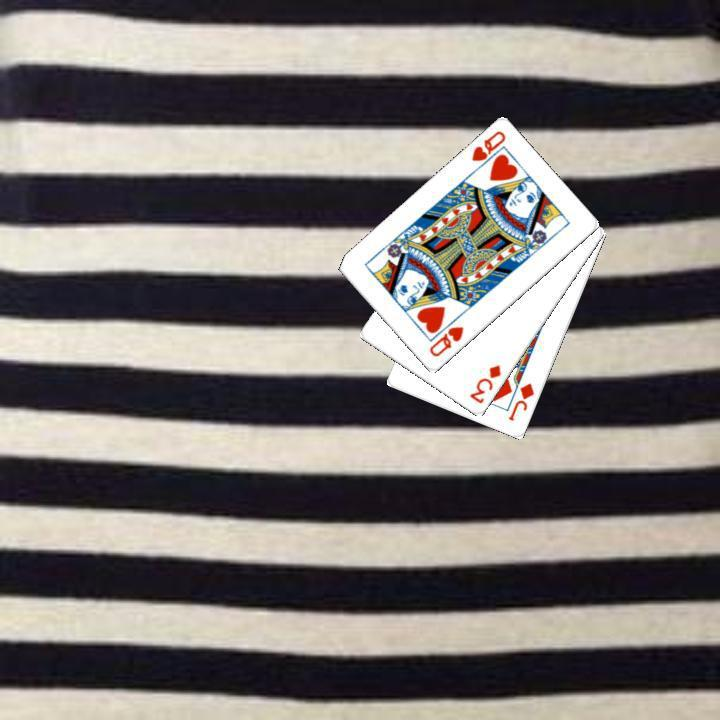3: (465, 360, 503, 406)
J: (504, 379, 537, 423)
Q: (467, 127, 508, 175), (425, 322, 466, 359)
